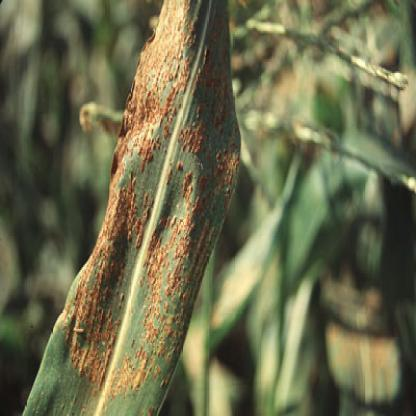Corn rust leaf: (43, 1, 252, 414)
